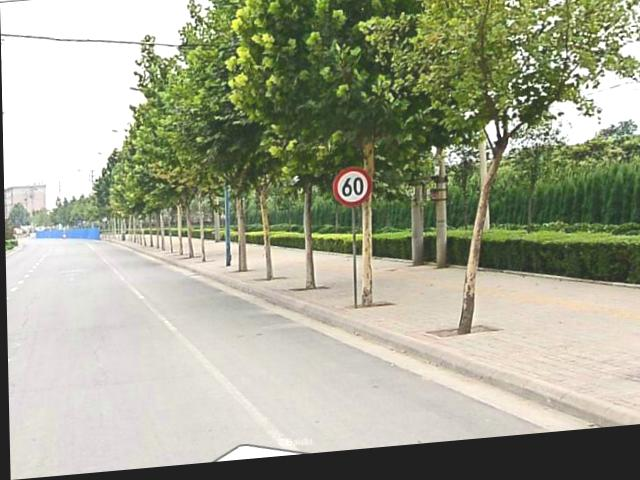limit60: (332, 170, 371, 215)
